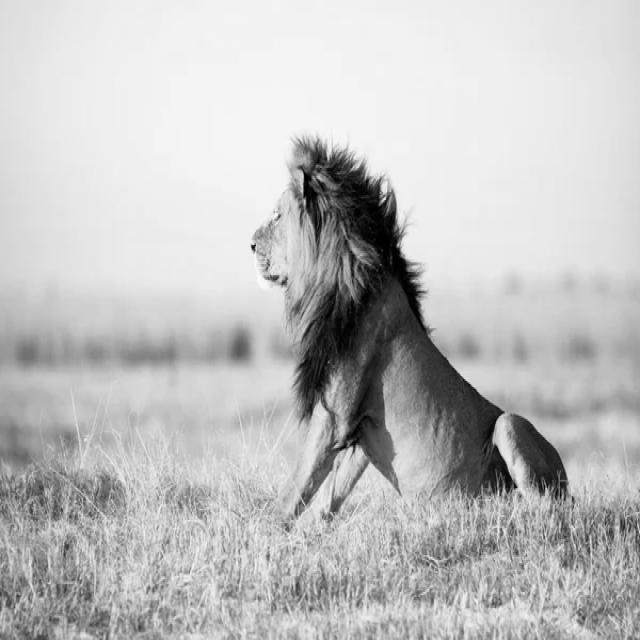Animal: (252, 139, 570, 527)
